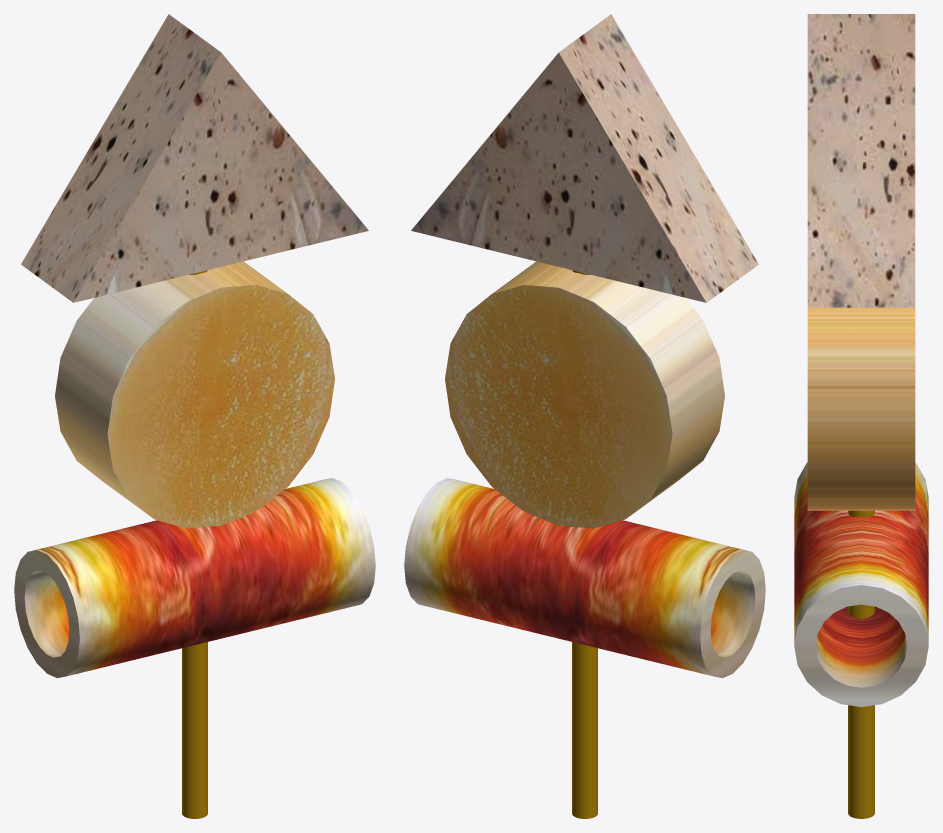
The model's file is Oden.fbx.
3 views of the same model, side by side, from view 1: azimuth 30°, elevation 25°; view 2: azimuth 150°, elevation 25°; view 3: azimuth 270°, elevation 25° (orthographic). The views are drawn at different scales.
Visible parts, largest first — view 1: polySurface2; view 2: polySurface2; view 3: polySurface2.
Boxes of the visible parts, x1,y1,x2,y2 form: polySurface2: [14, 14, 375, 818]; polySurface2: [404, 14, 765, 818]; polySurface2: [794, 14, 928, 818].
Bounding box in the file's own units: 2.6 × 6.55 × 1.
Materials: 2 (1 with a texture image).
